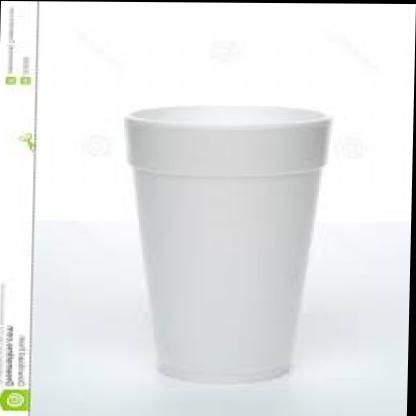trash: (125, 106, 330, 381)
